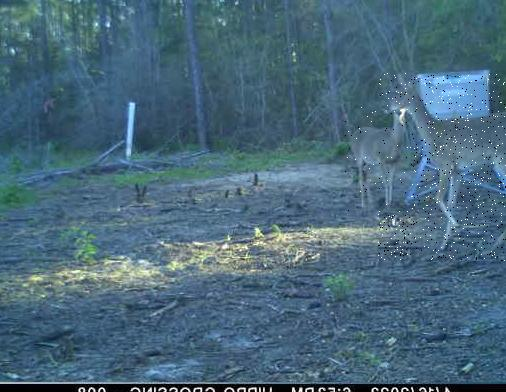Deer: (378, 73, 506, 261), (344, 103, 411, 211)
